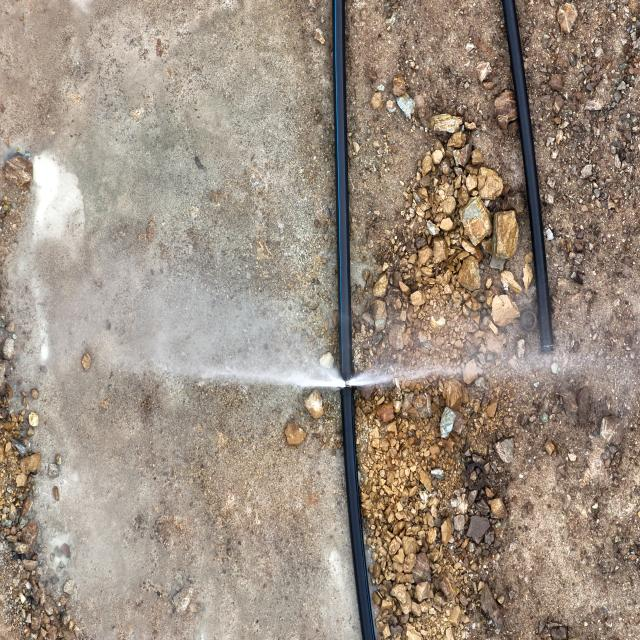leak: (155, 305, 571, 392)
